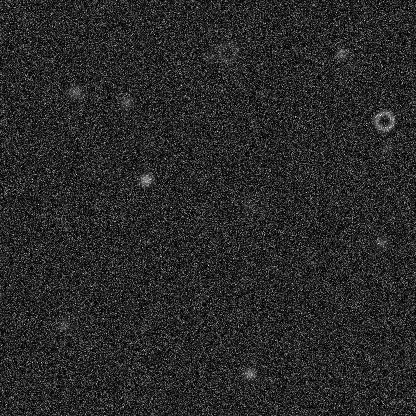Ring: (372, 108, 396, 132), (216, 39, 240, 63)
Spot: (241, 365, 257, 381), (56, 317, 72, 333), (199, 48, 215, 64), (136, 370, 152, 386), (137, 171, 153, 187), (240, 198, 256, 214), (373, 234, 389, 250), (333, 45, 349, 61), (67, 84, 83, 100), (118, 94, 134, 110), (378, 139, 394, 155)
